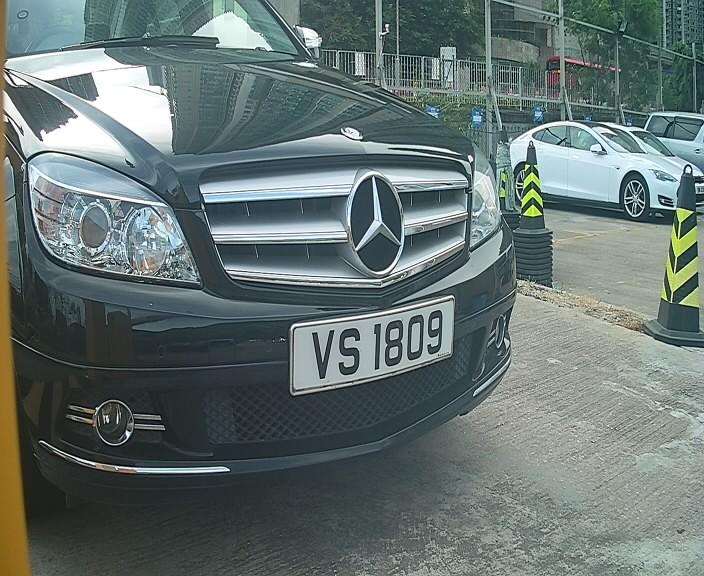License Plate: (283, 294, 456, 394)
